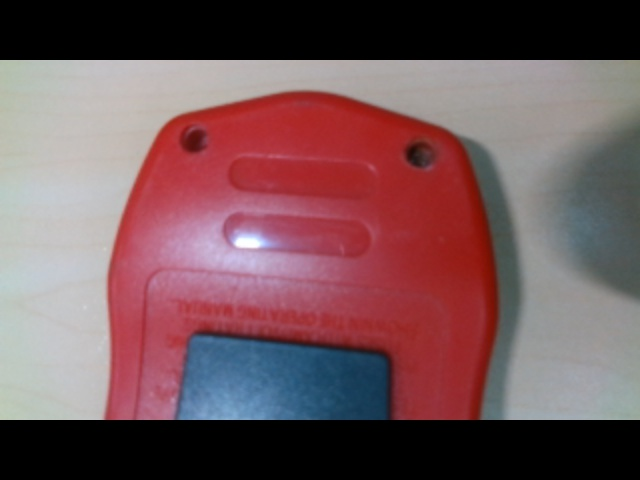Screw holes: (402, 135, 441, 171), (177, 124, 212, 157)
